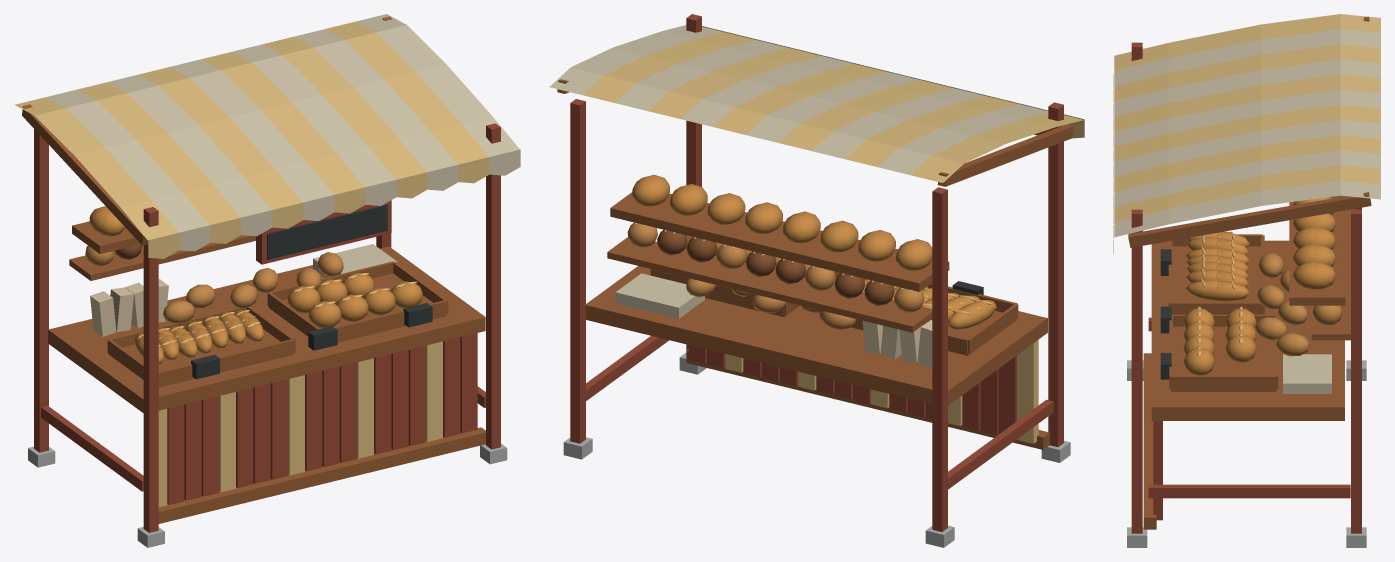
The model's file is baker-near.glb.
The picture shows the model from 3 angles, left to right: view 1: azimuth 30°, elevation 25°; view 2: azimuth 150°, elevation 25°; view 3: azimuth 270°, elevation 25°; orthographic projection. The views are drawn at different scales.
Visible parts, largest first — view 1: Baker Market Stall; view 2: Baker Market Stall; view 3: Baker Market Stall.
Boxes of the visible parts, x1=… form: Baker Market Stall: x1=14, y1=14, x2=520, y2=547; Baker Market Stall: x1=549, y1=14, x2=1084, y2=547; Baker Market Stall: x1=1113, y1=14, x2=1380, y2=547.
Bounding box in the file's own units: 2.98 × 2.72 × 1.86.
